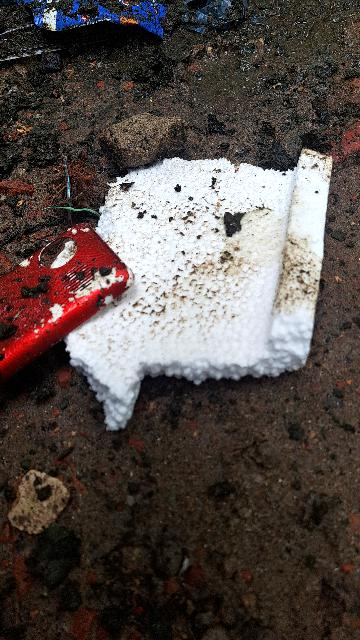cocksheet: (52, 128, 339, 434)
